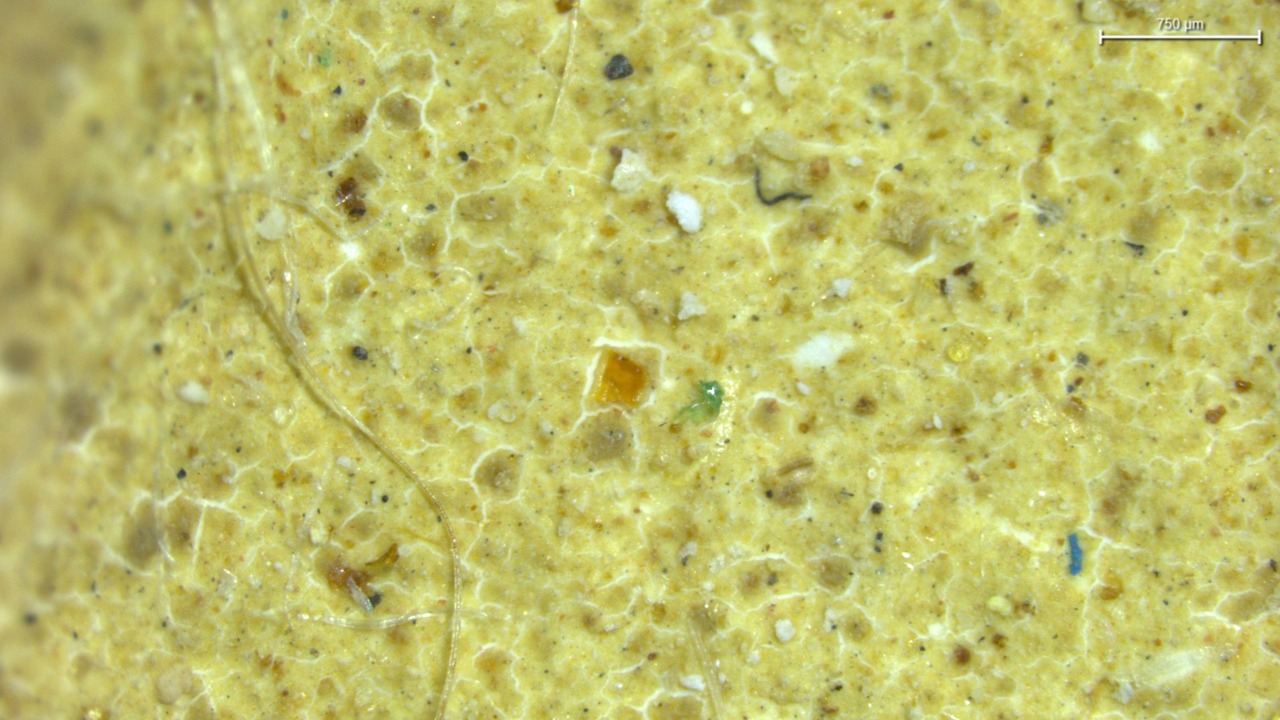microplastic_fragment: (755, 160, 811, 205), (611, 149, 652, 191), (666, 190, 702, 232)
